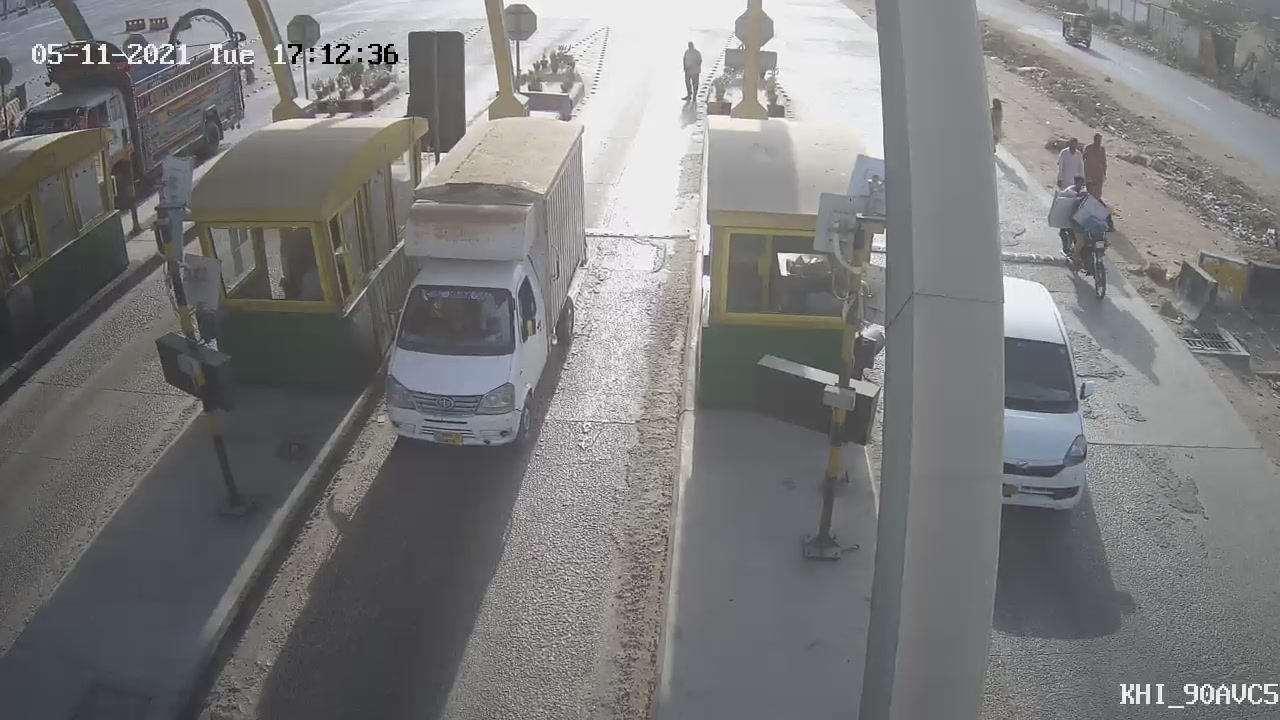F2: (356, 86, 601, 476)
